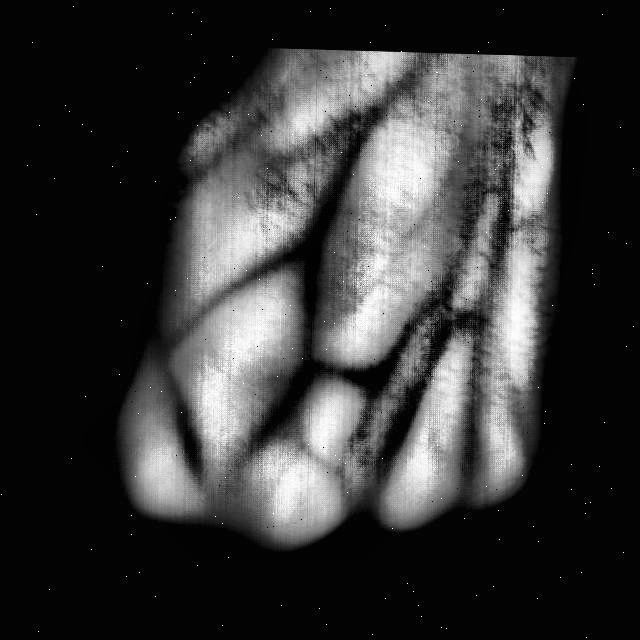Vein: (279, 86, 398, 344)
